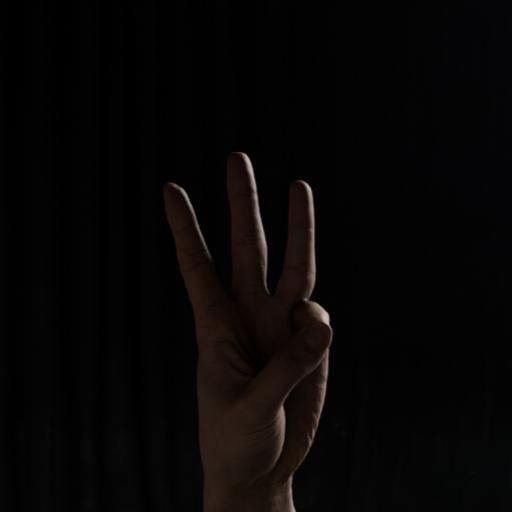W: (146, 144, 355, 512)
